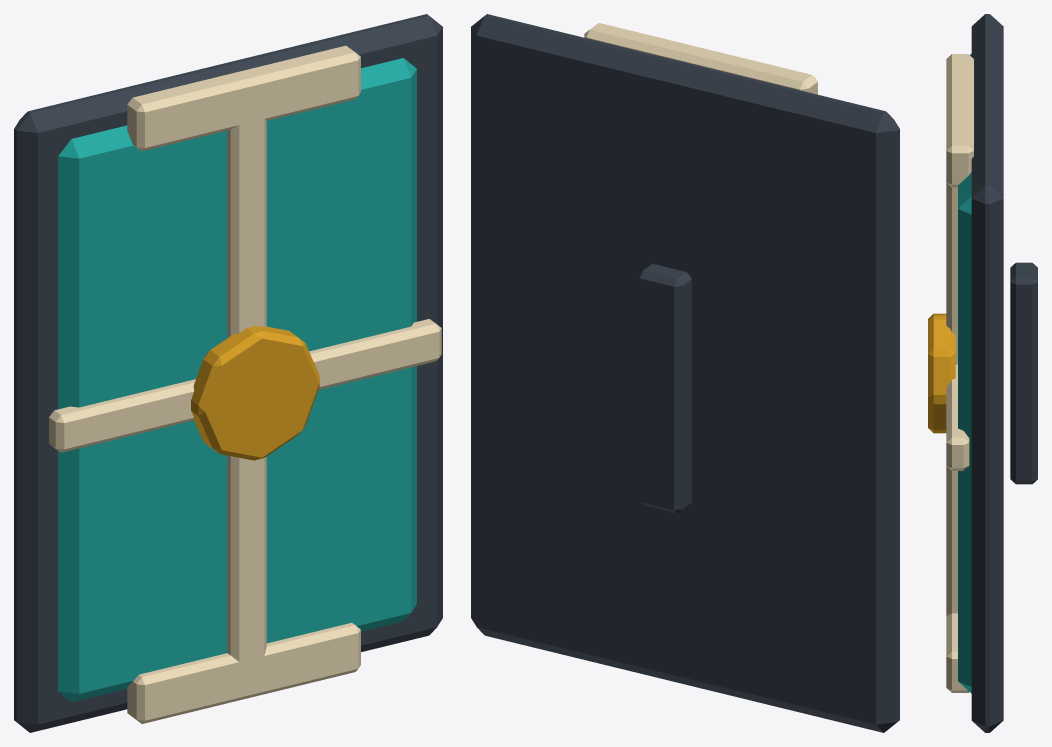
File: weapon_shield-CT9Spdxk.glb
The picture shows the model from 3 angles, left to right: view 1: azimuth 30°, elevation 25°; view 2: azimuth 150°, elevation 25°; view 3: azimuth 270°, elevation 25°; orthographic projection. The views are drawn at different scales.
Visible parts, largest first — view 1: weapon_shield; view 2: weapon_shield; view 3: weapon_shield.
Part boxes in pixels (bbox=[...]): weapon_shield: bbox=[14, 14, 442, 732]; weapon_shield: bbox=[471, 14, 899, 732]; weapon_shield: bbox=[928, 14, 1037, 732].
Bounding box in the file's own units: 0.95 × 1.32 × 0.24.
